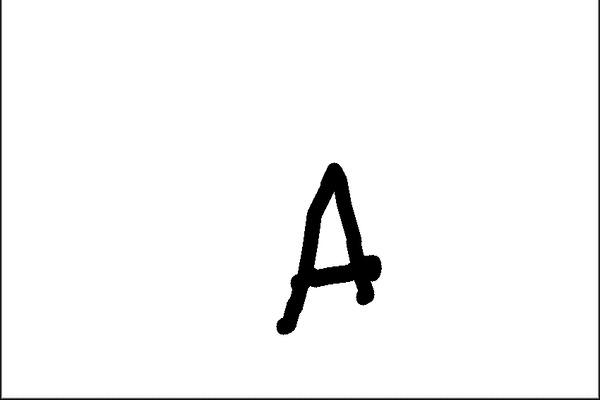A: (265, 156, 384, 337)
